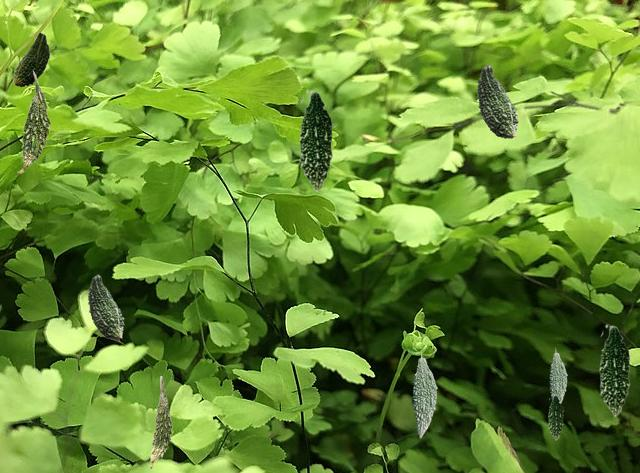ampalaya: (299, 89, 334, 191), (17, 70, 50, 172), (599, 324, 631, 416), (477, 64, 517, 137), (88, 274, 123, 338), (412, 350, 436, 437), (13, 32, 49, 86), (150, 376, 171, 468), (549, 347, 566, 402), (548, 394, 563, 439)
